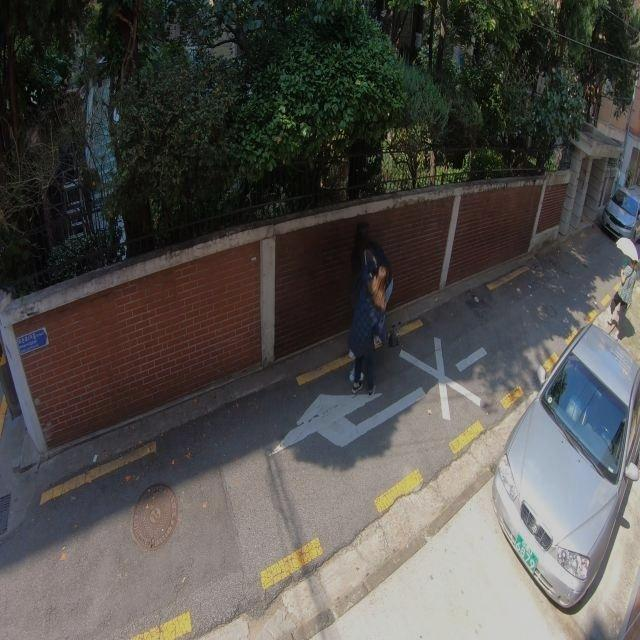fight: (343, 234, 394, 397)
